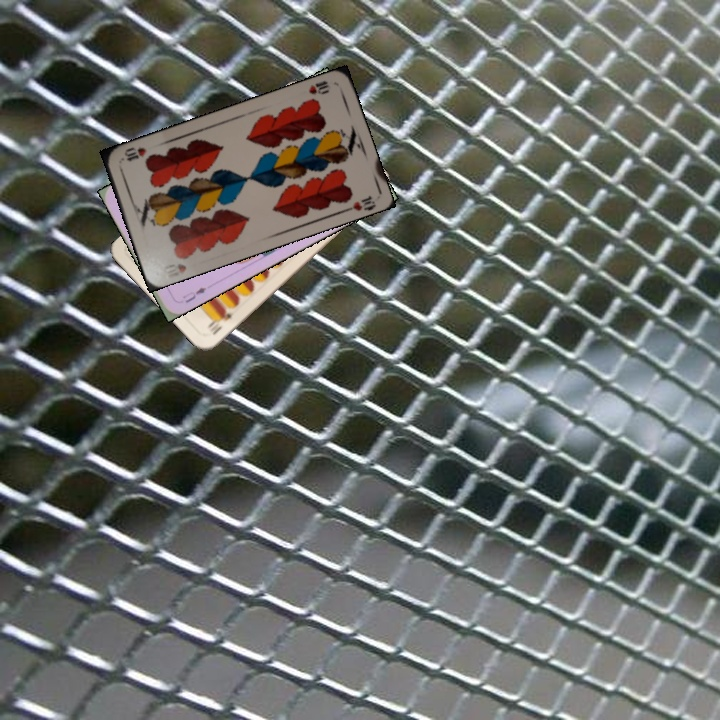E10: (205, 308, 234, 337)
EU: (178, 283, 209, 306)
H10: (159, 259, 189, 280), (305, 77, 332, 97)
